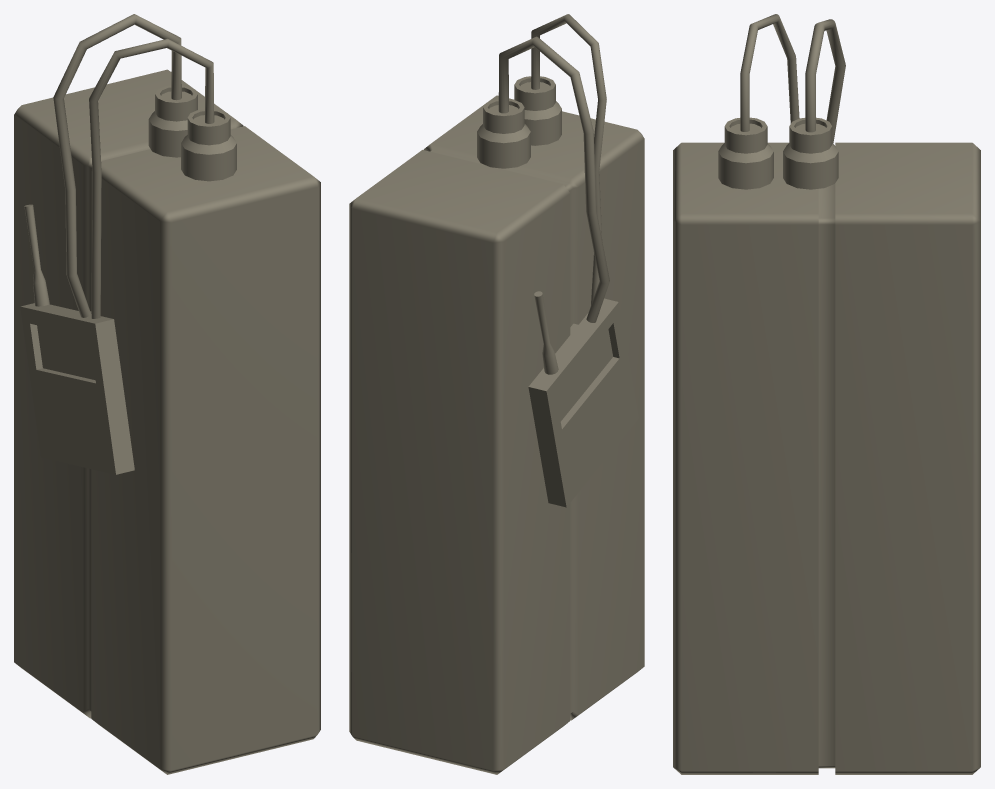
3 views of the same model, side by side, from view 1: azimuth 30°, elevation 25°; view 2: azimuth 150°, elevation 25°; view 3: azimuth 270°, elevation 25° (orthographic). The views are drawn at different scales.
Parts seen in each view (by area): view 1: Cube.003, Plane.006, Vert.031, Vert.027, Circle.022, Circle.021, Circle.020; view 2: Cube.003, Plane.006, Vert.031, Circle.021, Vert.027, Circle.022, Circle.020; view 3: Cube.003, Circle.022, Circle.021, Vert.031, Vert.027.
Boxes of the visible parts, x1,y1,x2,y2 form: Cube.003: (14,69,320,774); Plane.006: (20,303,134,474); Vert.031: (53,14,181,317); Vert.027: (89,38,214,318); Circle.022: (181,109,236,181); Circle.021: (148,85,197,157); Circle.020: (24,204,49,306); Cube.003: (349,95,644,774); Plane.006: (528,298,638,507); Vert.031: (498,36,609,322); Circle.021: (477,99,530,168); Vert.027: (531,14,606,313); Circle.022: (514,76,561,145); Circle.020: (534,291,558,374); Cube.003: (673,142,980,774); Circle.022: (718,117,773,189); Circle.021: (783,117,838,189); Vert.031: (805,19,845,143); Vert.027: (740,14,799,131).
Size of the model in its own units: 32.52 by 115 by 46.02.
